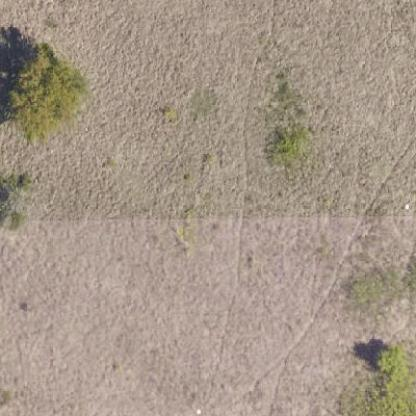tree-top: (2, 42, 92, 142), (371, 340, 410, 396)
